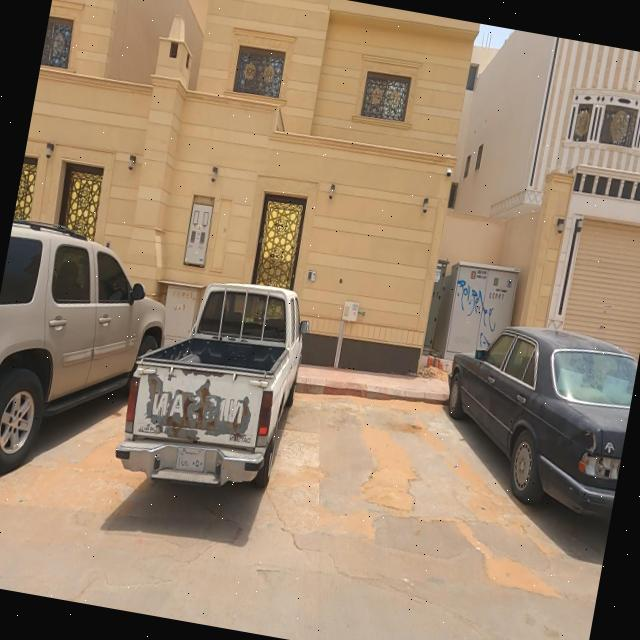Graffiti: (447, 279, 504, 352)
